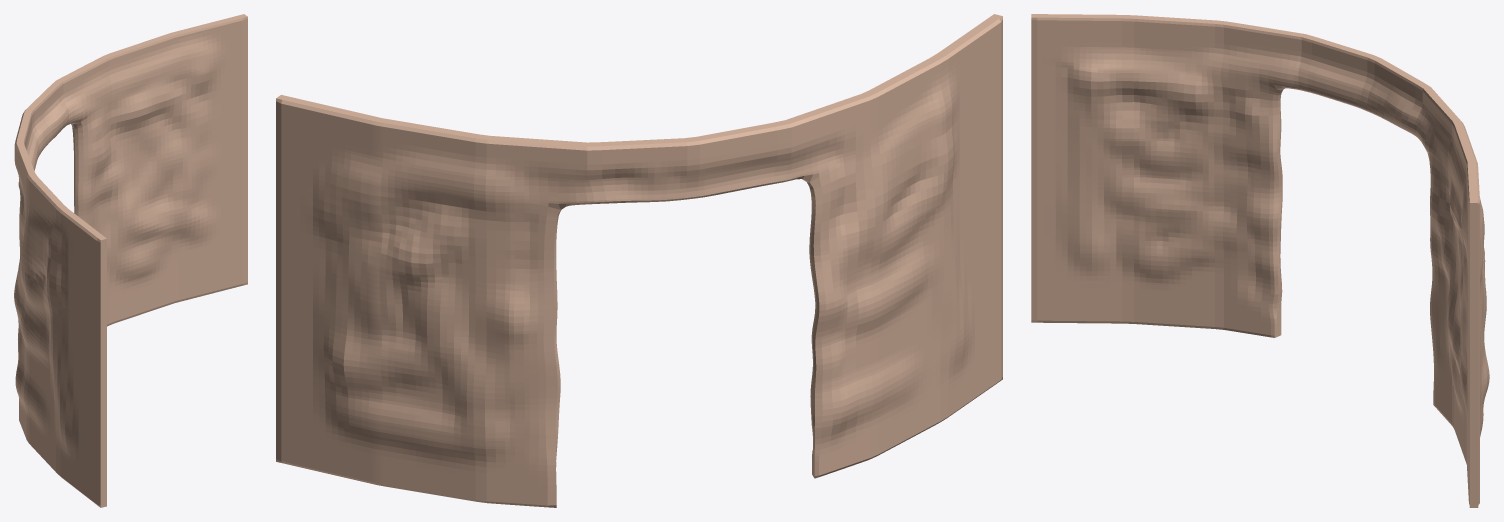
The model's file is structure_doorcurved.fbx.
3 renders of one model, left to right at view 1: azimuth 30°, elevation 25°; view 2: azimuth 150°, elevation 25°; view 3: azimuth 270°, elevation 25°, orthographic. The views are drawn at different scales.
Parts seen in each view (by area): view 1: doorcurved_LOD0; view 2: doorcurved_LOD0; view 3: doorcurved_LOD0.
Boxes of the visible parts, x1,y1,x2,y2 form: doorcurved_LOD0: (14,14,247,507); doorcurved_LOD0: (276,14,1002,507); doorcurved_LOD0: (1031,14,1489,507).
Size of what is drawn, in the model's own units: 405 by 300 by 408.
